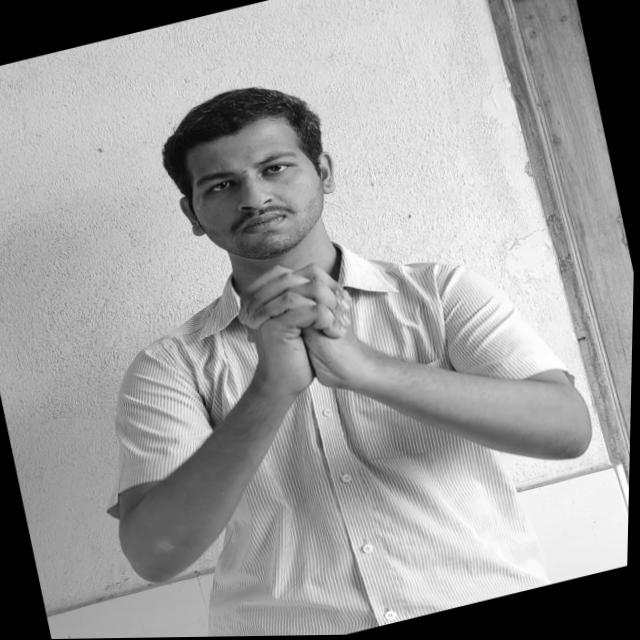Sorry: (223, 248, 380, 395)
